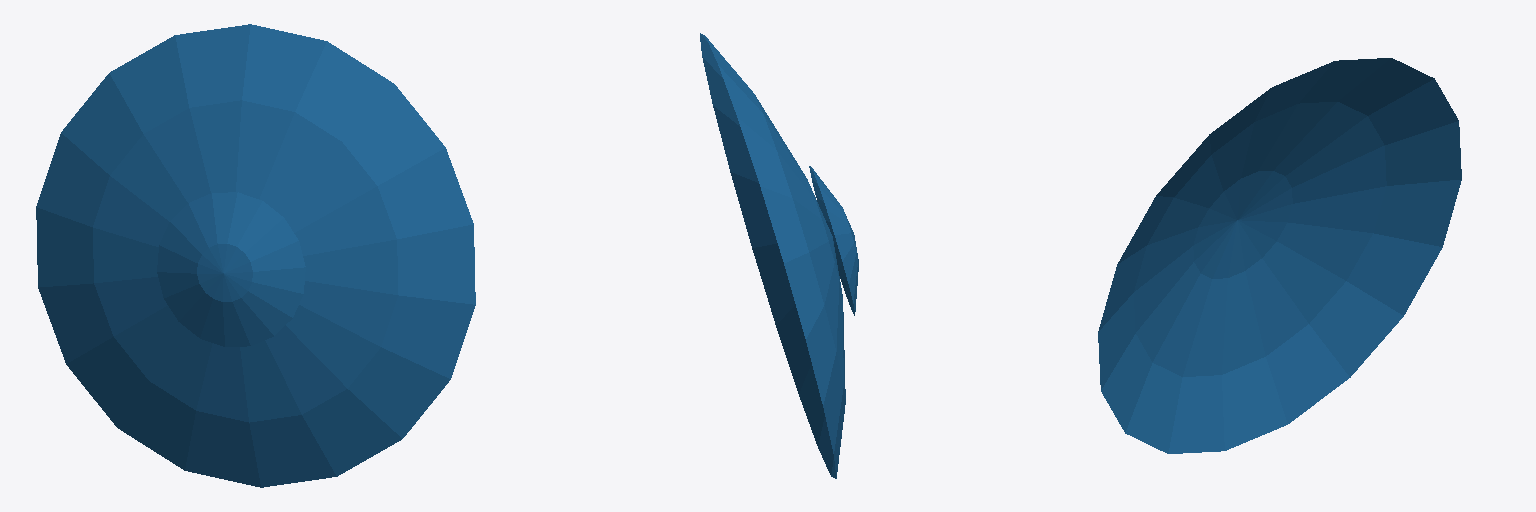
3 views of the same model, side by side, from view 1: azimuth 30°, elevation 25°; view 2: azimuth 150°, elevation 25°; view 3: azimuth 270°, elevation 25° (orthographic).
Visible parts, largest first — view 1: pikapika01a_0, pikapika01b_0; view 2: pikapika01a_0, pikapika01b_0; view 3: pikapika01a_0.
Part boxes in pixels (x1,y1,x2,y2): pikapika01a_0: (36, 24, 475, 487); pikapika01b_0: (157, 192, 305, 346); pikapika01a_0: (700, 33, 845, 478); pikapika01b_0: (809, 166, 858, 315); pikapika01a_0: (1098, 58, 1461, 453).
Size of the model in its own units: 23.46 by 33.85 by 27.08.